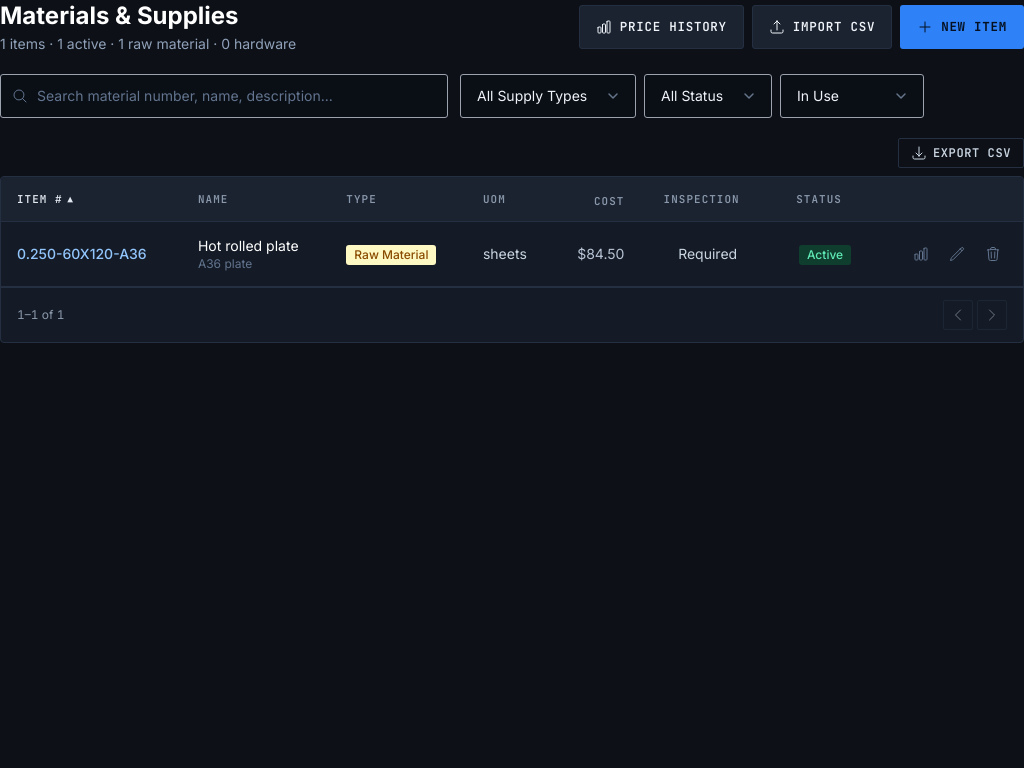
Test: Materials renumber gate › does not offer Renumber when creating a new material
Click the button "New Item": (962, 27) [900,5,1023,49]
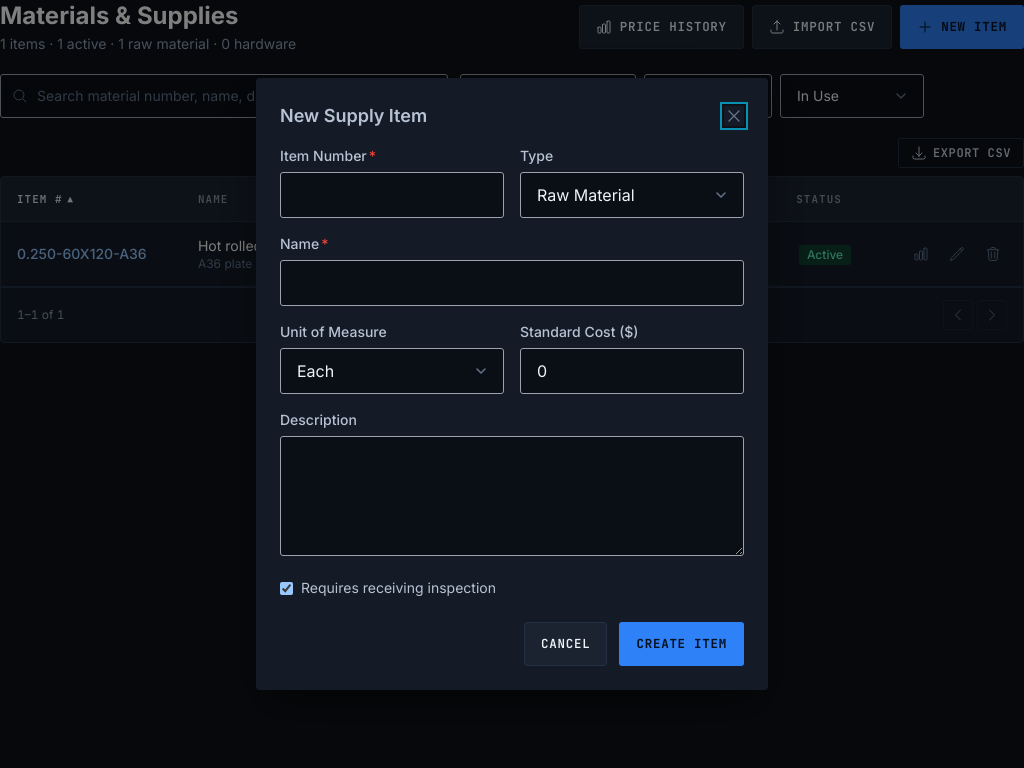
Expected: the field labelled "Item Number*" is enabled, [280,172,504,218]
